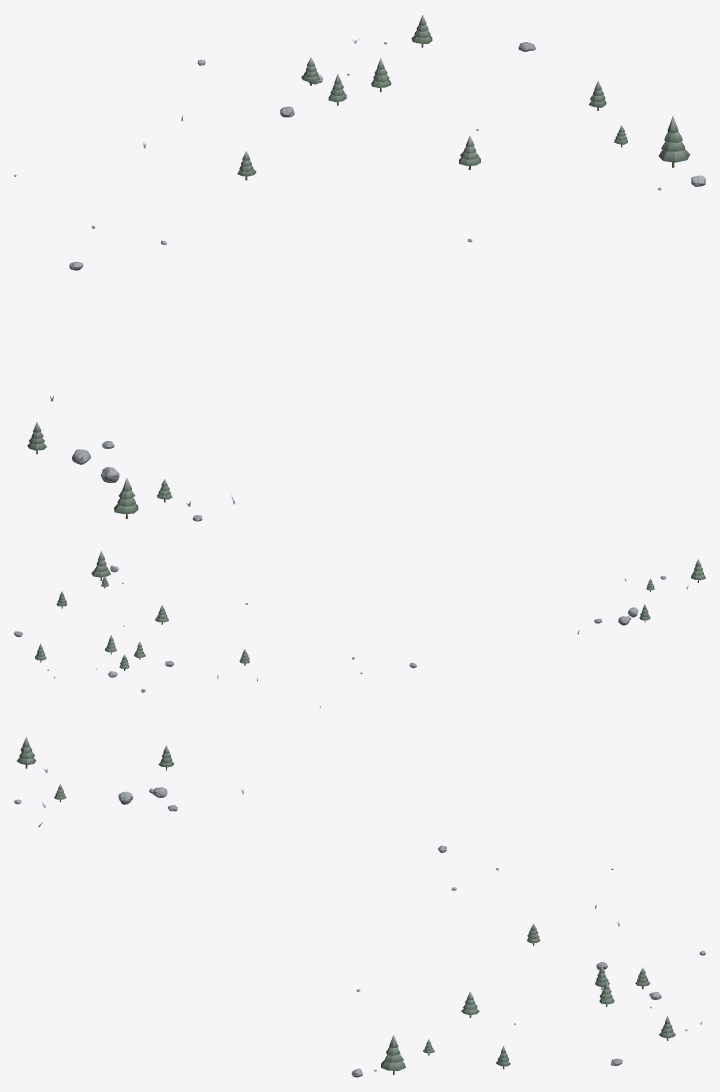
Rendered from frost_land_scatter_c22_09.glb.
3 renders of one model, top to bottom at view 1: azimuth 30°, elevation 25°; view 2: azimuth 150°, elevation 25°; view 3: azimuth 270°, elevation 25°, orthographic. The views are drawn at different scales.
Parts seen in each view (by area): view 1: frost_land_scatter_c22_09; view 2: frost_land_scatter_c22_09; view 3: frost_land_scatter_c22_09.
Boxes of the visible parts, <box> form: frost_land_scatter_c22_09: <box>14,15,705,521</box>; frost_land_scatter_c22_09: <box>14,551,705,707</box>; frost_land_scatter_c22_09: <box>14,736,705,1077</box>.
Size of the model in its own units: 262 by 19.85 by 250.
